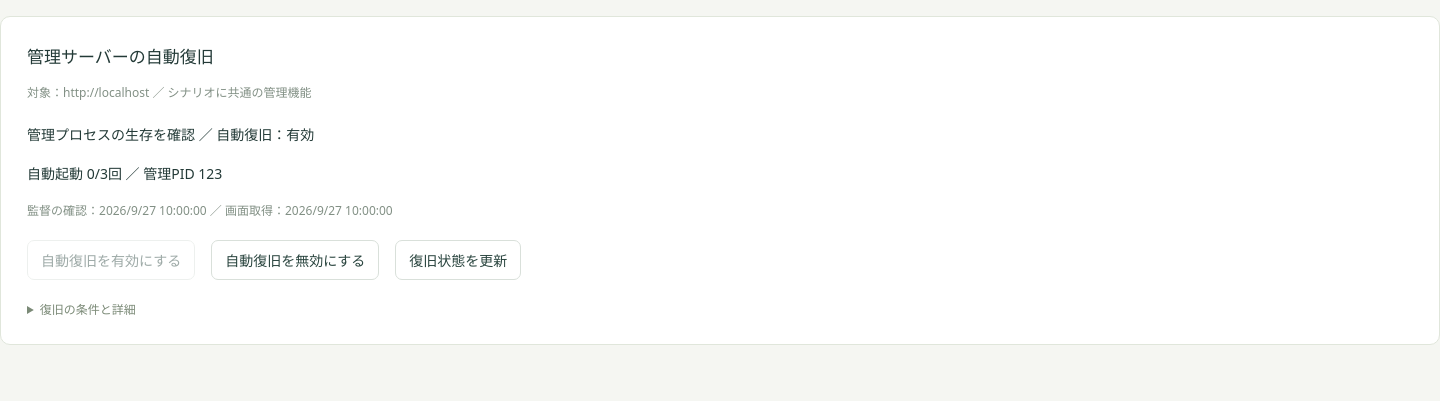
Test: marks cached status unknown and disables actions after a connection failure
This screenshot has width=1440, height=401.
Expected: the text "管理プロセスの生存を確認" is shown, [27,125,195,144]
Click the button "復旧状態を更新".
click(458, 260)  # box [395,240,521,280]
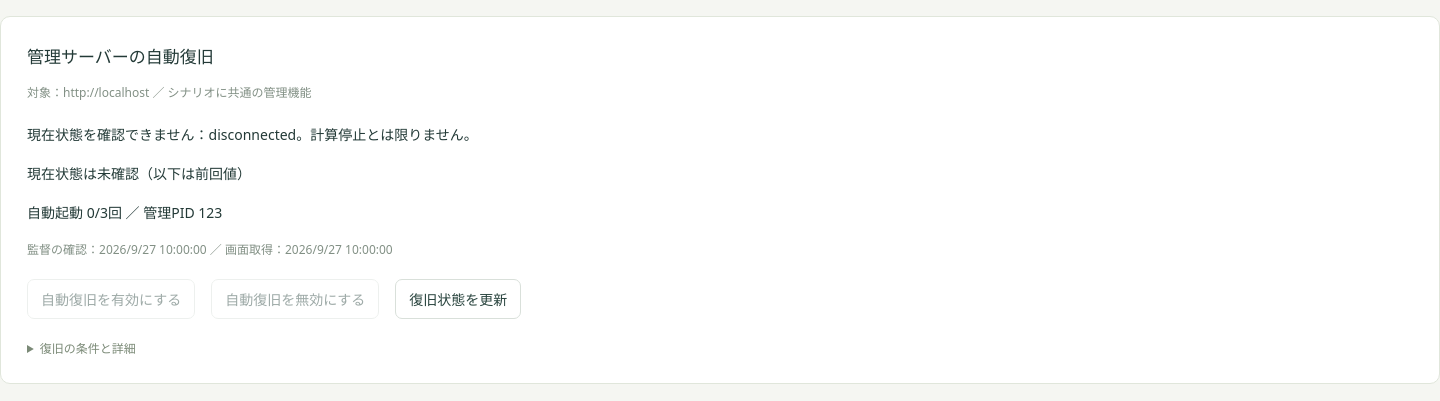
Result: the text "現在状態は未確認（以下は前回値）" is shown at [27,164,251,183]
Result: the button "自動復旧を無効にする" is disabled at [211,279,379,319]
